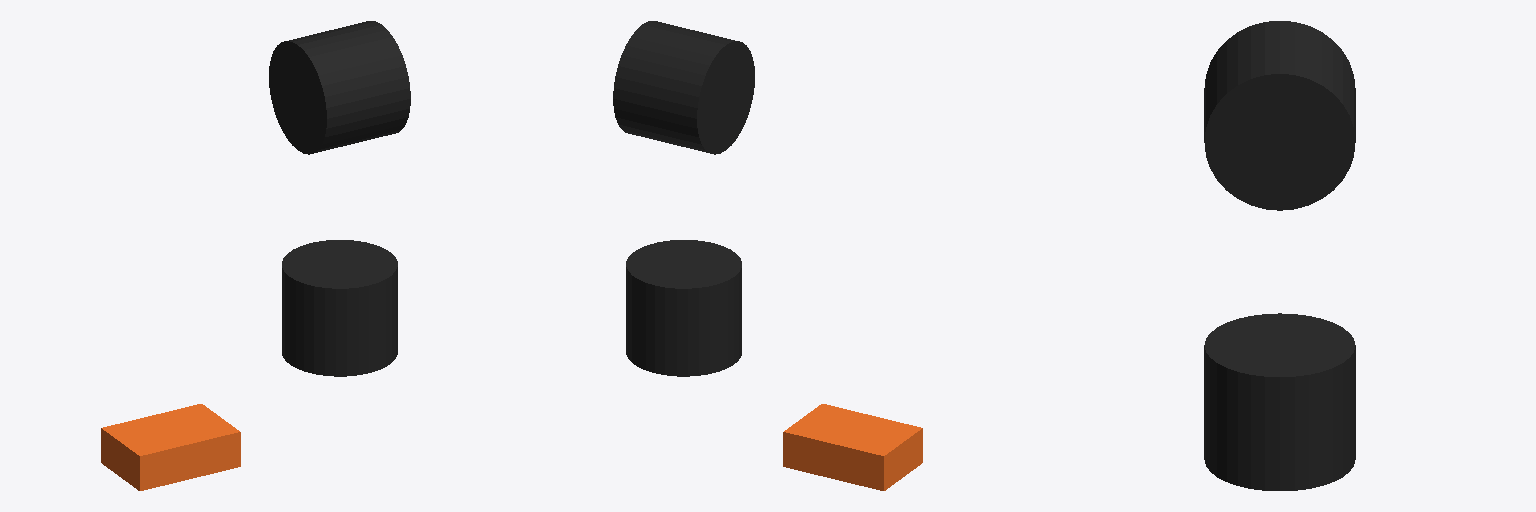
robot.urdf — robot_backpack_2d:
<!--
  Copyright 2016 The Cartographer Authors

  Licensed under the Apache License, Version 2.0 (the "License");
  you may not use this file except in compliance with the License.
  You may obtain a copy of the License at
                              
       http://www.apache.org/licenses/LICENSE-2.0

  Unless required by applicable law or agreed to in writing, software
  distributed under the License is distributed on an "AS IS" BASIS,
  WITHOUT WARRANTIES OR CONDITIONS OF ANY KIND, either express or implied.
  See the License for the specific language governing permissions and
  limitations under the License.
-->
<robot name="robot_backpack_2d">
  <material name="orange">
    <color rgba="1.0 0.5 0.2 1" />
  </material>
  <material name="gray">
    <color rgba="0.2 0.2 0.2 1" />
  </material>

  <link name="imu_link">
    <visual>
      <origin xyz="0 0 0" />
      <geometry>
        <box size="0.06 0.04 0.02" />
      </geometry>
      <material name="orange" />
    </visual>
  </link>

  <link name="horizontal_laser_link">
    <visual>
      <origin xyz="0 0 0" />
      <geometry>
        <cylinder length="0.05" radius="0.03" />
      </geometry>
      <material name="gray" />
    </visual>
  </link>

  <link name="vertical_laser_link">
    <visual>
      <origin xyz="0 0 0" />
      <geometry>
        <cylinder length="0.05" radius="0.03" />
      </geometry>
      <material name="gray" />
    </visual>
  </link>

  <link name="base_link" />

  <joint name="imu_link_joint" type="fixed">
    <parent link="base_link" />
    <child link="imu_link" />
    <origin xyz="0 0 0" />
  </joint>

  <joint name="horizontal_laser_link_joint" type="fixed">
    <parent link="base_link" />
    <child link="horizontal_laser_link" />
    <origin xyz="0.1007 0 0.0558" />
  </joint>

  <joint name="vertical_laser_link_joint" type="fixed">
    <parent link="base_link" />
    <child link="vertical_laser_link" />
    <origin rpy="0 -1.570796 3.141593" xyz="0.1007 0 0.1814" />
  </joint>
</robot>

--- Render facts (derived) ---
The picture shows the robot from 3 angles, left to right: view 1: azimuth 30°, elevation 25°; view 2: azimuth 150°, elevation 25°; view 3: azimuth 270°, elevation 25°; orthographic projection.
Model robot_backpack_2d with 4 links and 3 joints (3 fixed), rooted at base_link, posed every joint at zero.
Visible links, largest first — view 1: vertical_laser_link, horizontal_laser_link, imu_link; view 2: vertical_laser_link, horizontal_laser_link, imu_link; view 3: horizontal_laser_link, vertical_laser_link.
Link boxes in pixels (x1=…): vertical_laser_link: x1=269, y1=21, x2=410, y2=154; horizontal_laser_link: x1=282, y1=240, x2=397, y2=376; imu_link: x1=101, y1=404, x2=240, y2=490; vertical_laser_link: x1=613, y1=21, x2=754, y2=154; horizontal_laser_link: x1=626, y1=240, x2=741, y2=376; imu_link: x1=783, y1=404, x2=922, y2=490; horizontal_laser_link: x1=1204, y1=313, x2=1355, y2=490; vertical_laser_link: x1=1204, y1=21, x2=1355, y2=210.
Bounding box of the posed robot: 0.1607 × 0.06 × 0.2214 m (x, y, z).
Geometry: primitives only (box / cylinder / sphere), no mesh files.